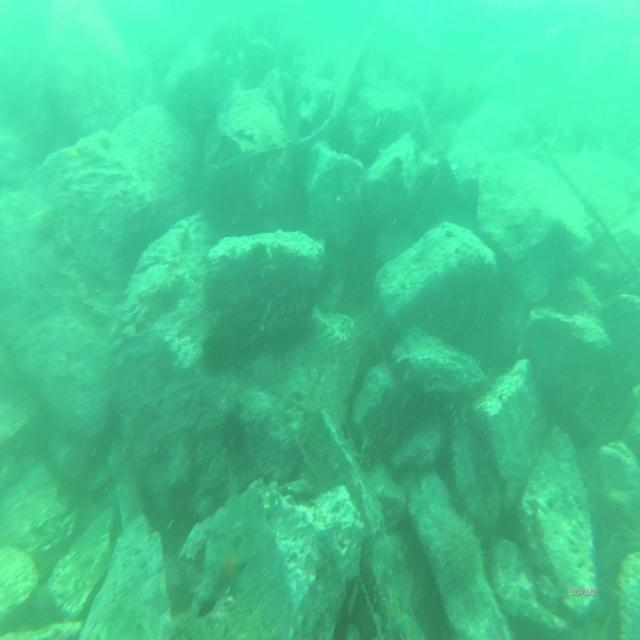echinus: (434, 520, 482, 587), (218, 411, 246, 452), (203, 336, 229, 380)
starfish: (212, 541, 246, 591)
